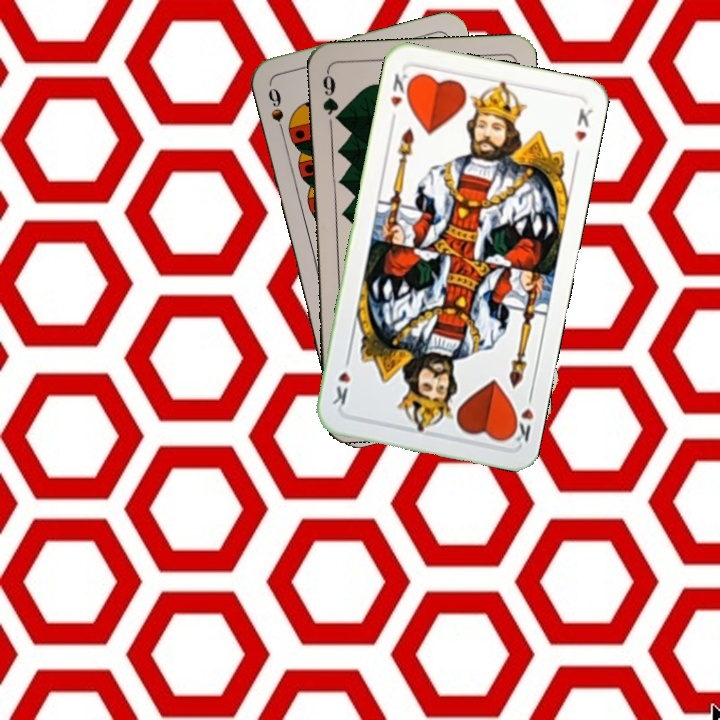G9: (318, 67, 344, 126)
HK: (505, 387, 536, 446), (386, 69, 416, 125)
S9: (264, 84, 288, 141)
